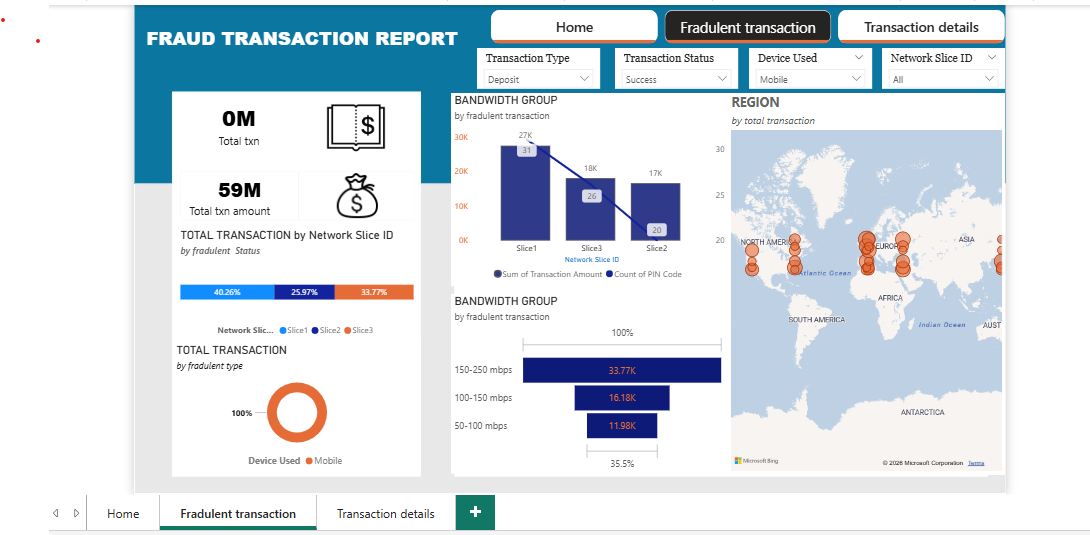

This screenshot's page, from the dashboard's own definition file:
{"tool":"powerbi","page":{"name":"Fradulent transaction","canvas":[1280,720],"ordinal":1},"visuals":[{"type":"cardVisual","fields":{"Data":["Sum(bank transaction_data.total transaction)"]},"box":[62.9,129.4,354.2,95.3],"z":0},{"type":"cardVisual","fields":{"Data":["Sum(bank transaction_data.total transaction amount)"]},"box":[62.9,239.1,354.2,82.7],"z":1000},{"type":"hundredPercentStackedBarChart","fields":{"Y":["Sum(bank transaction_data.TOTAL TRANSACTION)"],"Series":["bank transaction_data.Network Slice ID"]},"box":[63.2,327.7,352.7,169],"z":2000},{"type":"donutChart","title":" TOTAL TRANSACTION ","fields":{"Y":["Sum(bank transaction_data.TOTAL TRANSACTION)"],"Category":["bank transaction_data.Device Used"]},"box":[57.3,496.7,364.4,192.5],"z":3000},{"type":"map","title":"REGION","fields":{"Size":["Sum(bank transaction_data.TOTAL TRANSACTION)"],"Y":["bank transaction_data.latitutde"],"X":["bank transaction_data.longitude.1"]},"box":[872.8,129.3,407,559.8],"z":4000},{"type":"slicer","fields":{"Values":["bank transaction_data.Network Slice ID"]},"box":[1099.1,63.2,180.7,60.2],"z":5000},{"type":"slicer","fields":{"Values":["bank transaction_data.Device Used"]},"box":[903.7,63.2,180.7,60.2],"z":6000},{"type":"slicer","fields":{"Values":["bank transaction_data.Transaction Type"]},"box":[504,63.2,180.7,60.2],"z":7000},{"type":"slicer","fields":{"Values":["bank transaction_data.Transaction Status"]},"box":[706.8,63.2,180.7,60.2],"z":8000},{"type":"textbox","box":[13.2,19.1,511.3,74.9],"z":9000},{"type":"lineStackedColumnComboChart","title":"BANDWIDTH GROUP","fields":{"Category":["bank transaction_data.Network Slice ID"],"Y":["Sum(bank transaction_data.Transaction Amount)"],"Y2":["CountNonNull(bank transaction_data.PIN Code)"]},"box":[465.8,129.3,407,283.6],"z":10000},{"type":"funnel","title":"BANDWIDTH GROUP","fields":{"Category":["bank transaction_data.bandwidth group"],"Y":["Sum(bank transaction_data.Transaction Amount)"]},"box":[465.8,424.7,407,264.5],"z":11000},{"type":"pageNavigator","box":[524.6,7.3,755.3,50],"z":12000}]}

Visuals, with their boxes on the page's 1280x720 design canvas (x1, y1, x2, y2). These are canvas units, not pixel positions in the 1090x535 screenshot, which may show the page scaled, cropped or inside an application window:
cardVisual - Sum(bank transaction_data.total transaction): detection(63, 129, 417, 225)
cardVisual - Sum(bank transaction_data.total transaction amount): detection(63, 239, 417, 322)
hundredPercentStackedBarChart - Sum(bank transaction_data.TOTAL TRANSACTION) x bank transaction_data.Network Slice ID: detection(63, 328, 416, 497)
" TOTAL TRANSACTION " donutChart: detection(57, 497, 422, 689)
"REGION" map: detection(873, 129, 1280, 689)
slicer - bank transaction_data.Network Slice ID: detection(1099, 63, 1280, 123)
slicer - bank transaction_data.Device Used: detection(904, 63, 1084, 123)
slicer - bank transaction_data.Transaction Type: detection(504, 63, 685, 123)
slicer - bank transaction_data.Transaction Status: detection(707, 63, 888, 123)
textbox: detection(13, 19, 524, 94)
"BANDWIDTH GROUP" lineStackedColumnComboChart: detection(466, 129, 873, 413)
"BANDWIDTH GROUP" funnel: detection(466, 425, 873, 689)
pageNavigator: detection(525, 7, 1280, 57)
